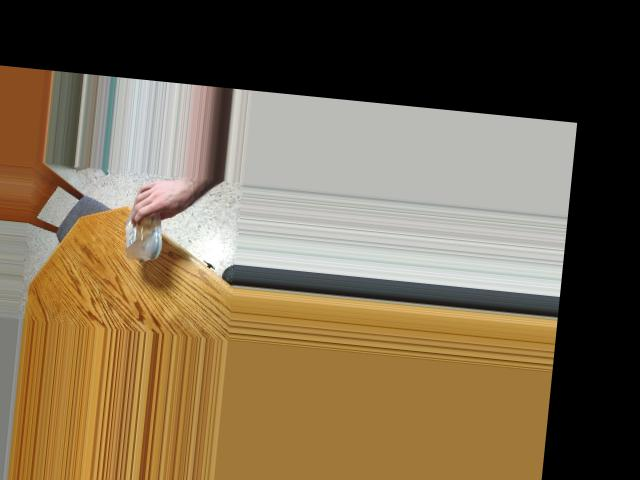cheese: (109, 203, 189, 264)
